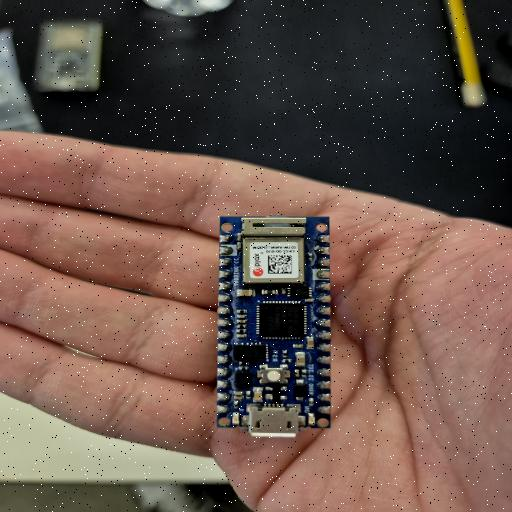arduino-nano-iot-33: (216, 216, 329, 432)
